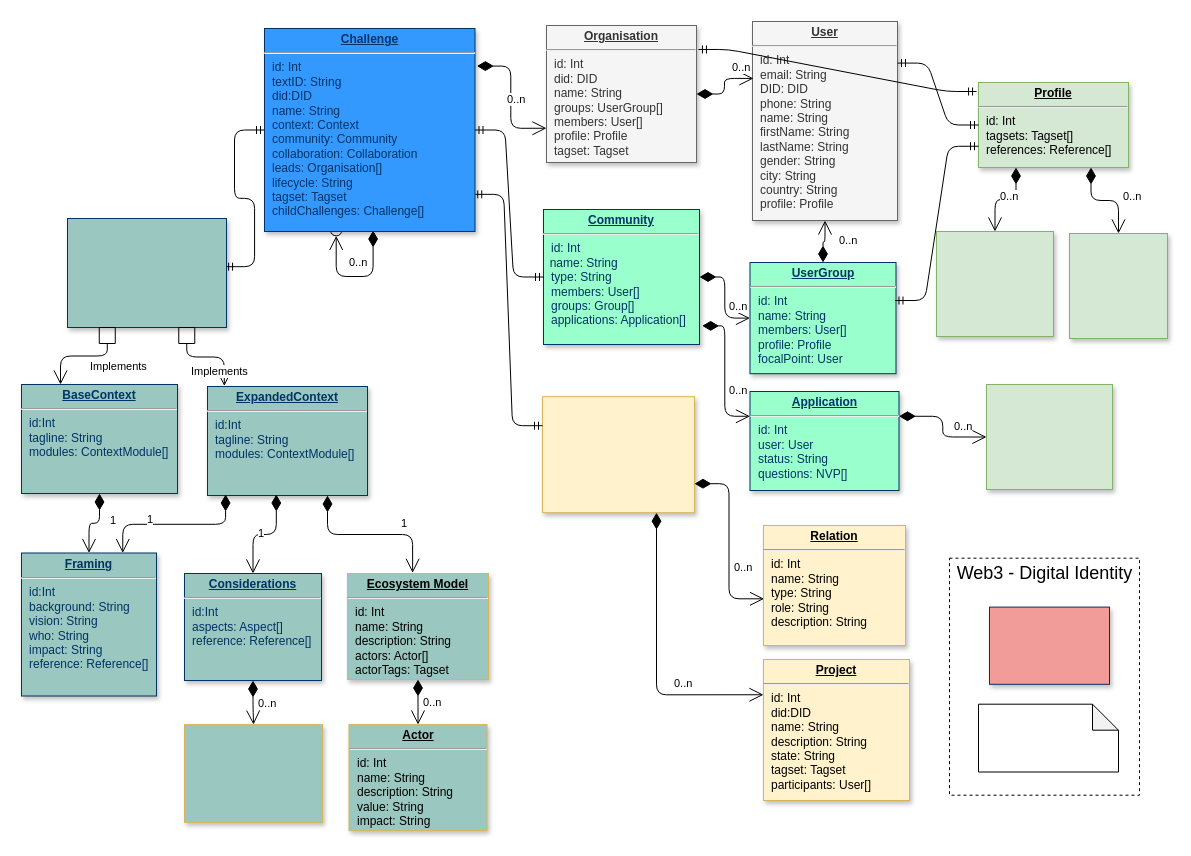
This 1191x856 diagram has some shape labels left out. Here are the shapes that lost their labels. From the top down, the centre of each, then its label:
At point (147, 274): "Context id:Int tagline: String modules: ContextModule[]".
At point (996, 285): "Reference id: Int name: String uri: String description: String".
At point (1119, 287): "Tagset id: Int name: String tags: String[]".
At point (619, 456): "Collaboration id: Int name: String projects: Project[] relations: Relation[]".
At point (1050, 438): "NVP id: Int name: String value: String".
At point (1050, 646): "DID id: Int did: String (DID) ddo: String (json)".
At point (1048, 737): "System manages DIDs on behalf of Ecoverse Entities".
At point (254, 774): "Aspect id: Int title: String framing: String explanation: String".
